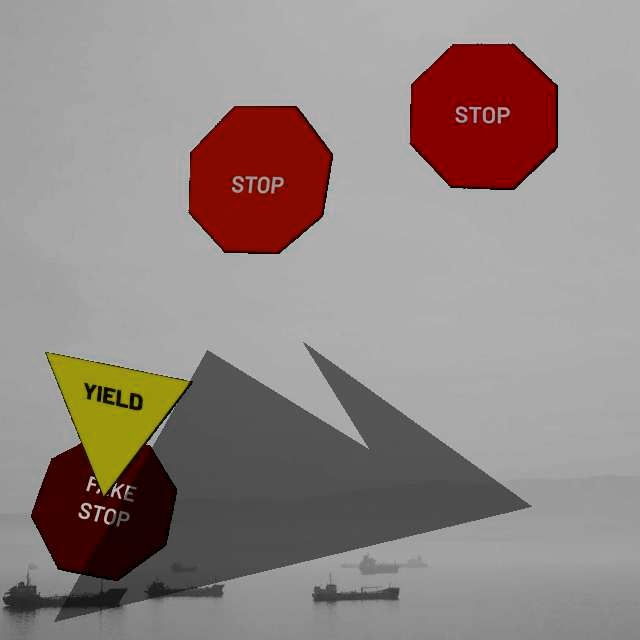FAKE_STOP: (30, 432, 177, 581)
STOP: (409, 43, 558, 190), (188, 105, 333, 254)
YIELD: (44, 351, 193, 499)
